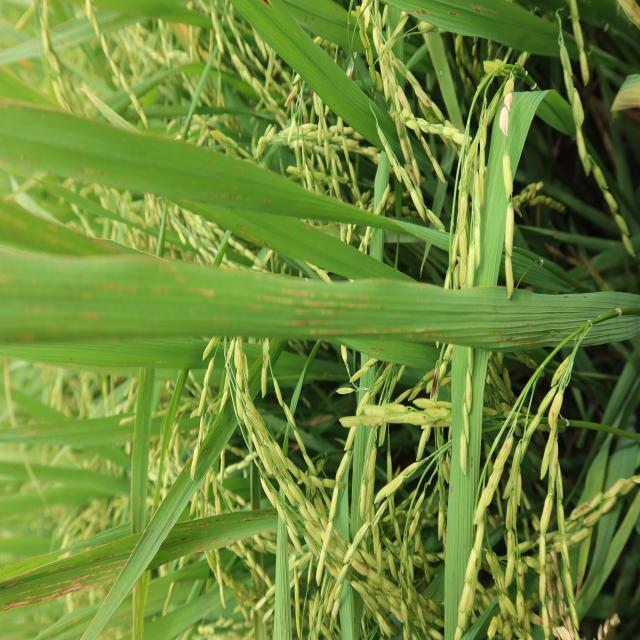Dom soc vi khuan: (0, 582, 102, 614), (37, 564, 124, 589), (86, 559, 128, 571), (280, 288, 315, 298), (48, 564, 74, 572), (25, 595, 36, 600)
